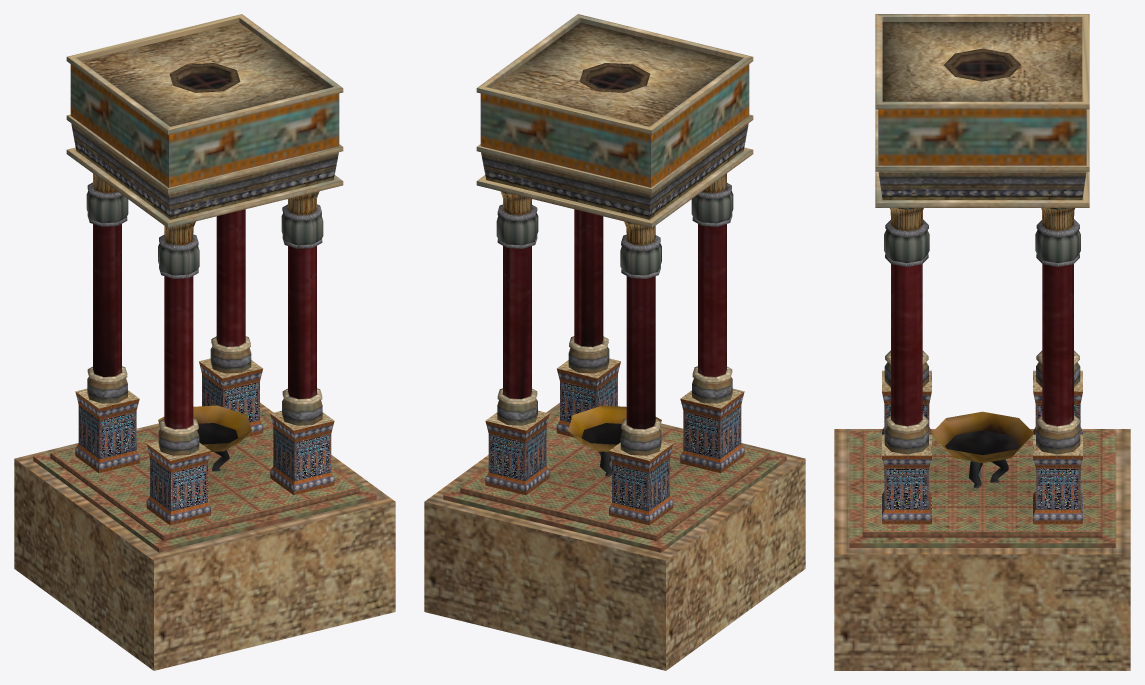
File: s_persians_shrine.glb
3 views of the same model, side by side, from view 1: azimuth 30°, elevation 25°; view 2: azimuth 150°, elevation 25°; view 3: azimuth 270°, elevation 25° (orthographic). The views are drawn at different scales.
Visible parts, largest first — view 1: s_persians_shrine_part0; view 2: s_persians_shrine_part0; view 3: s_persians_shrine_part0.
Boxes of the visible parts, x1,y1,x2,y2 form: s_persians_shrine_part0: [14, 14, 395, 670]; s_persians_shrine_part0: [424, 14, 805, 670]; s_persians_shrine_part0: [834, 14, 1130, 670].
Size of the model in its own units: 2.2 by 4.51 by 2.2.
1 material, 1 textured.
